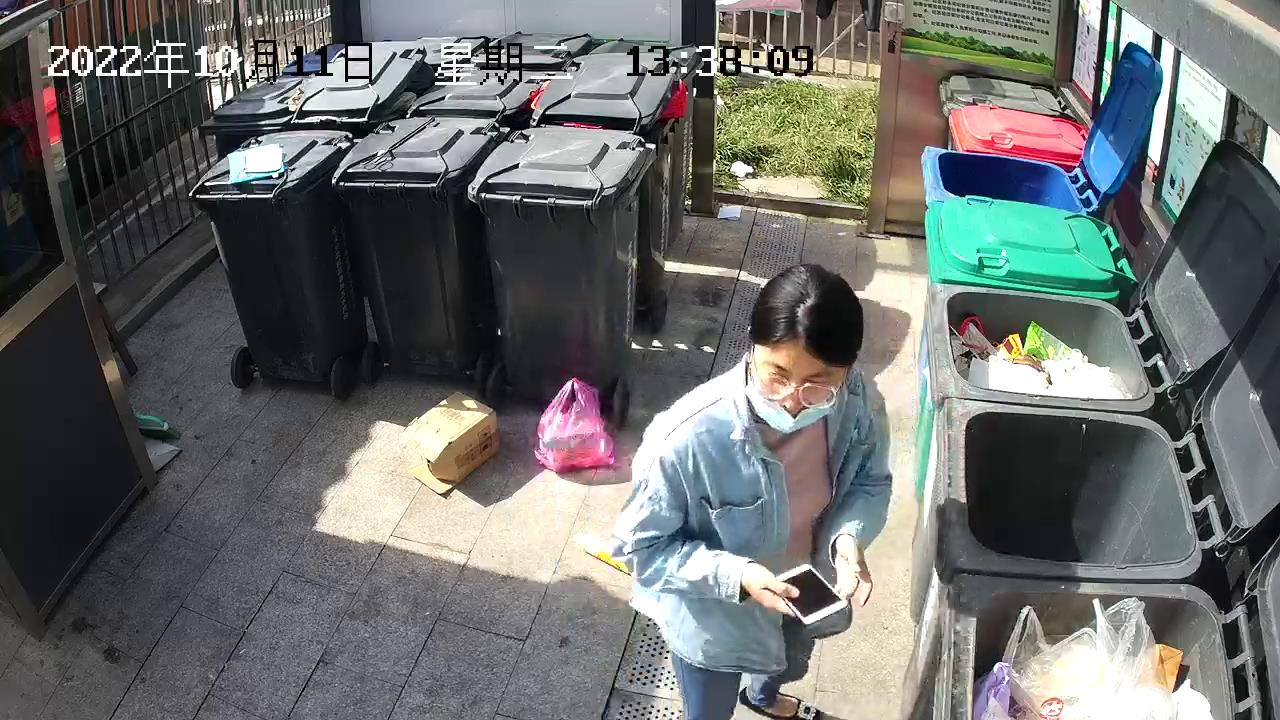garbage-bag: (526, 373, 619, 476)
lvzhipin: (608, 258, 901, 720)
suliaozhipin: (568, 528, 640, 581)
worker: (607, 258, 898, 720)
zhizhipin: (393, 384, 506, 502)
